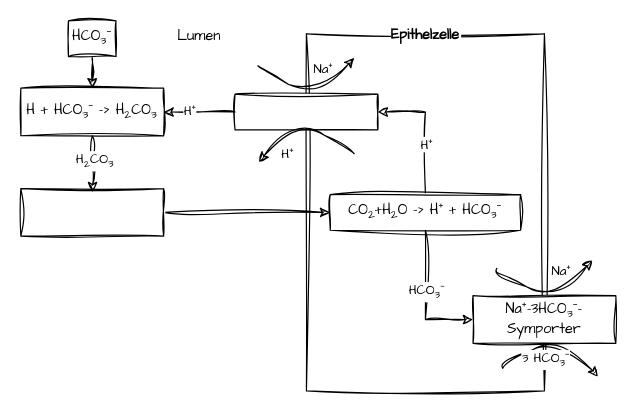
The diagram is 637 pixels wide and 412 high, and some of its shapes have lost their labels. Each missing label, with the centre of its shape:
"H 2 CO 3 -> H 2 O + CO 2" goes at (x=92, y=211).
"Na⁺/H⁺-Antiporter" goes at (x=306, y=111).
